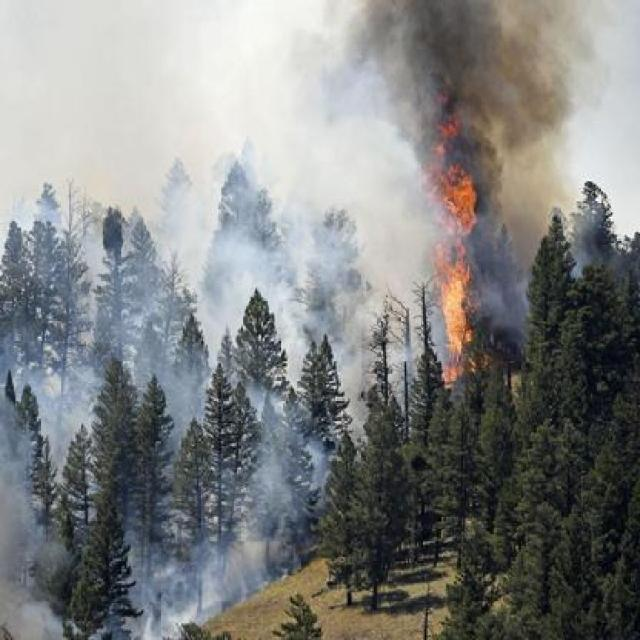Fire: (408, 91, 486, 386)
Smoke: (381, 16, 587, 102)
